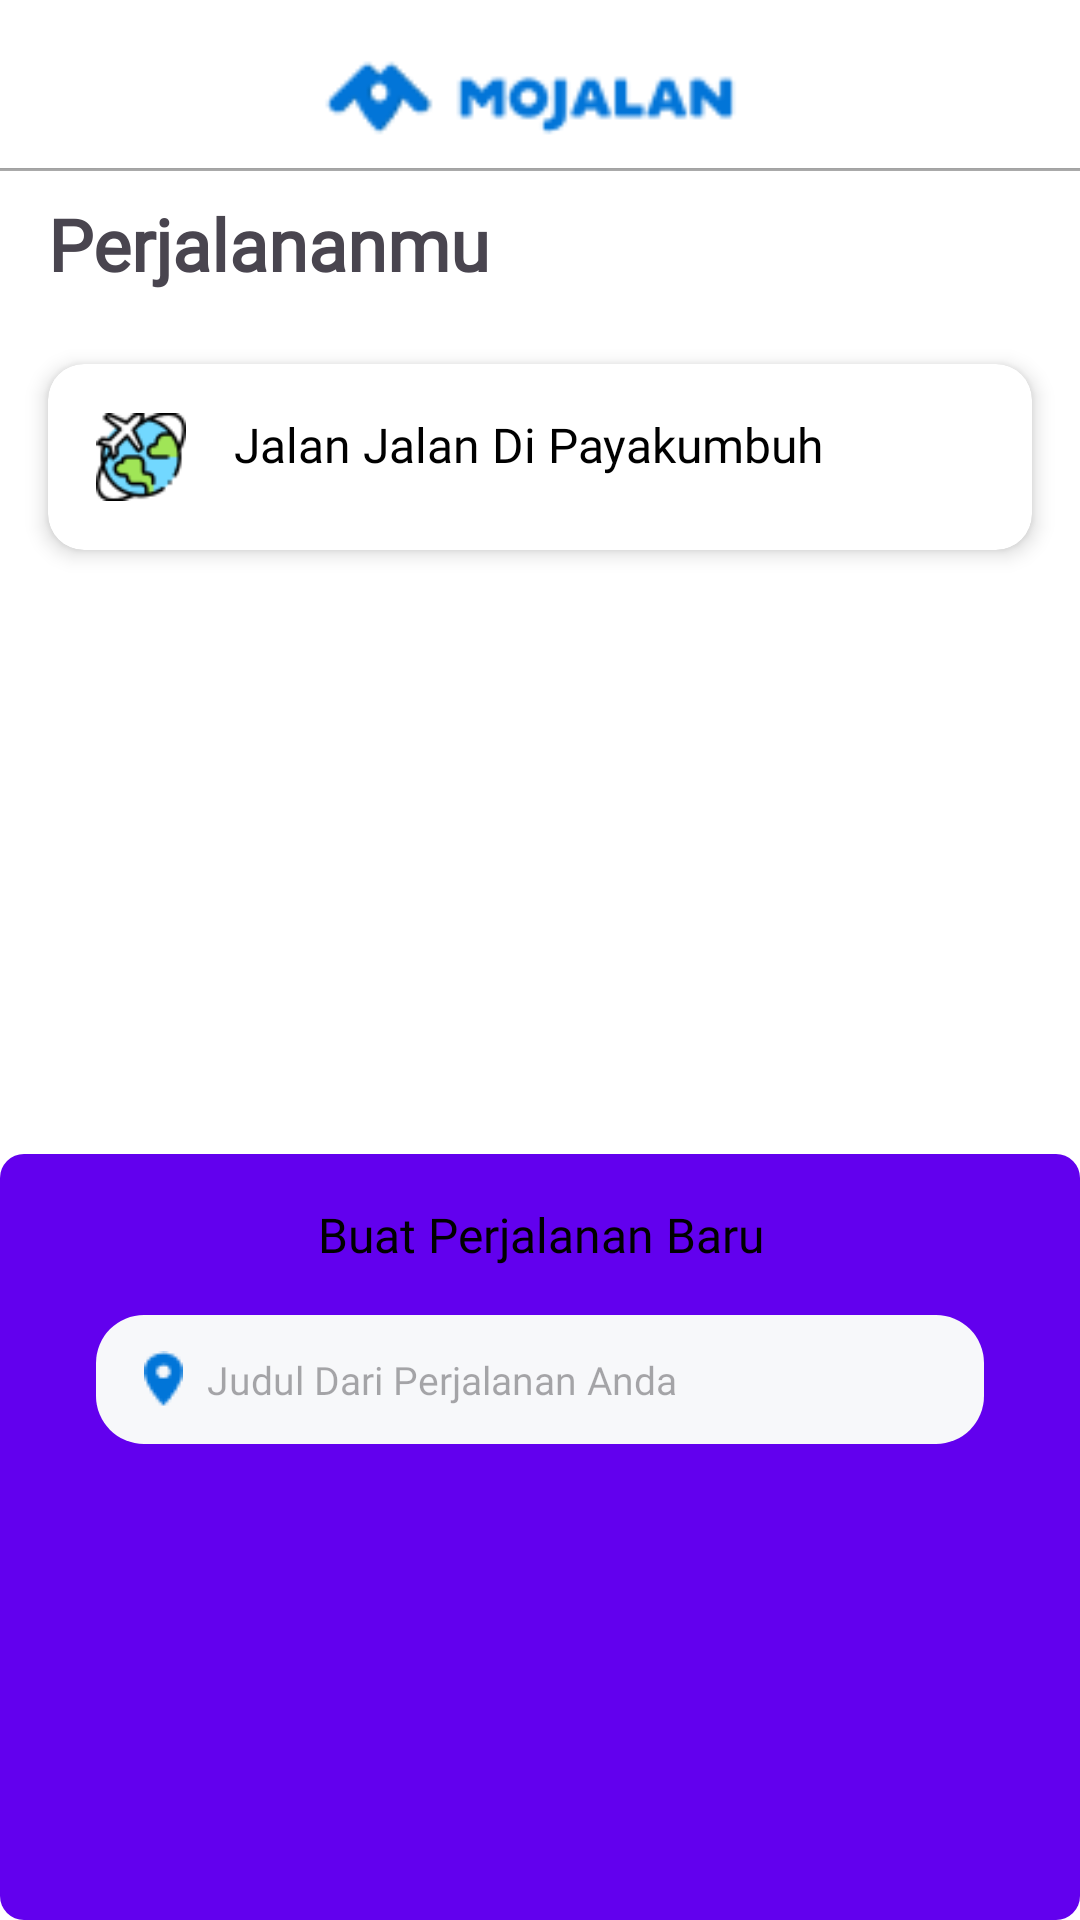

Named icons in this screenshot (1080px×1920px) and their centers, point (x, y):
Trip Icon: point (141, 457)
